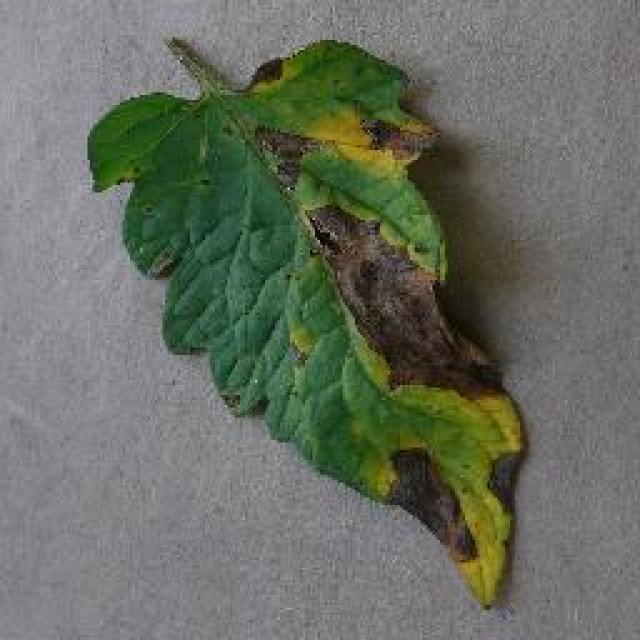leaf blight: (88, 39, 534, 606)
